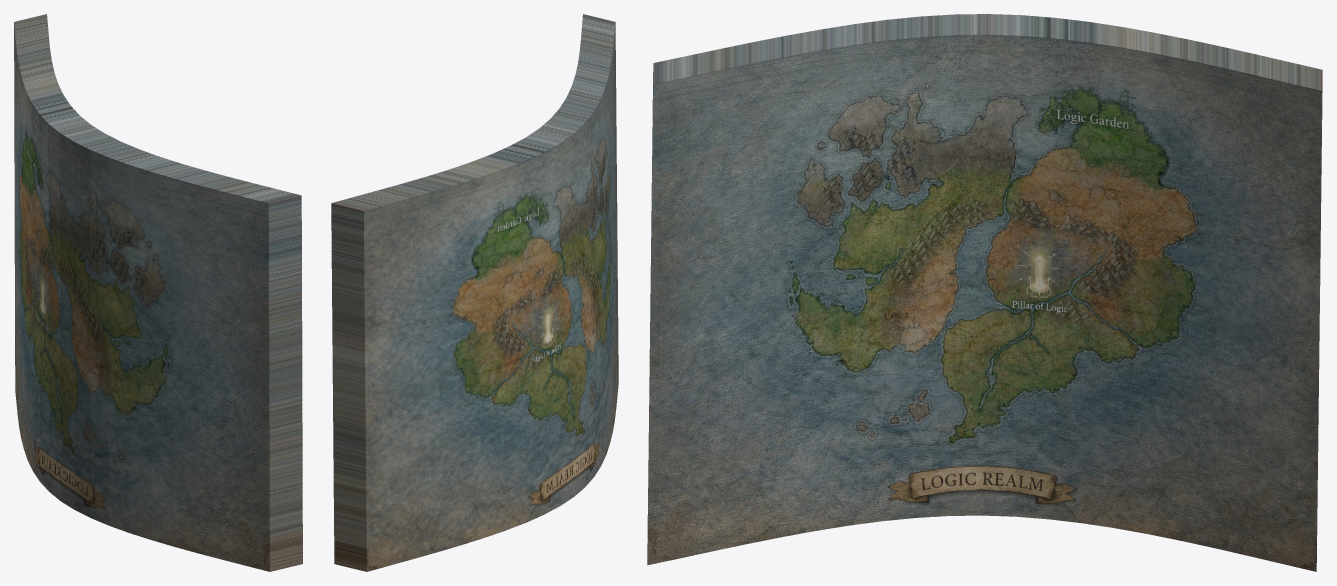
The model's file is LOGICMAP.fbx.
The picture shows the model from 3 angles, left to right: view 1: azimuth 30°, elevation 25°; view 2: azimuth 150°, elevation 25°; view 3: azimuth 270°, elevation 25°; orthographic projection. The views are drawn at different scales.
Parts seen in each view (by area): view 1: Empty.002; view 2: Empty.002; view 3: Empty.002.
Boxes of the visible parts, box(x1,y1,x2,y2) form: Empty.002: box(14, 14, 302, 571); Empty.002: box(331, 14, 618, 571); Empty.002: box(647, 14, 1322, 571).
Size of the model in its own units: 1783 by 5466 by 6847.
Materials: 1 (1 with a texture image).
